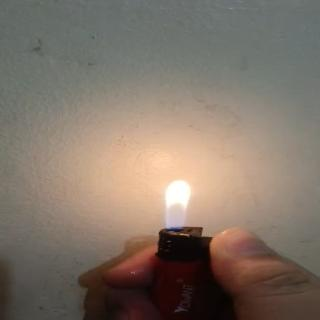fire: (150, 176, 201, 236)
